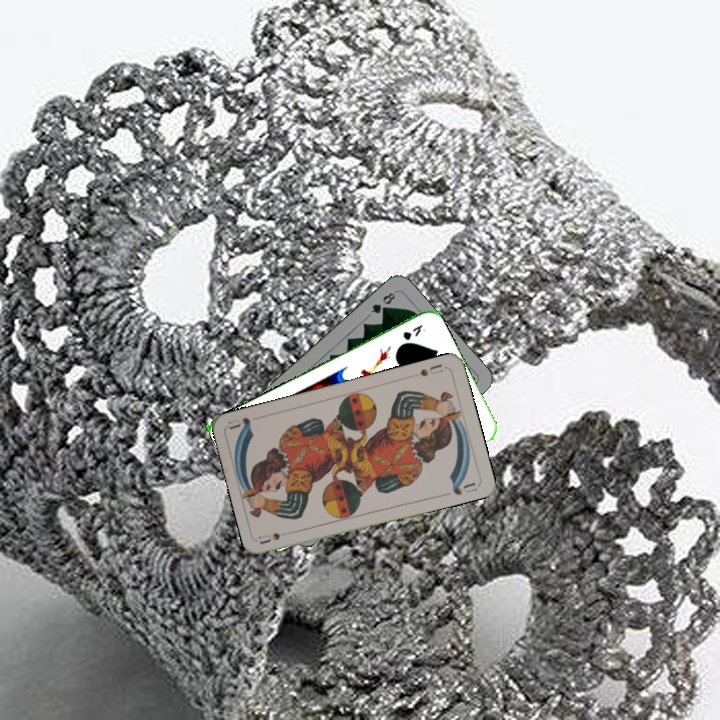G8: (367, 288, 398, 316)
GK: (399, 320, 428, 343)
SU: (256, 527, 297, 546), (416, 360, 446, 379)
